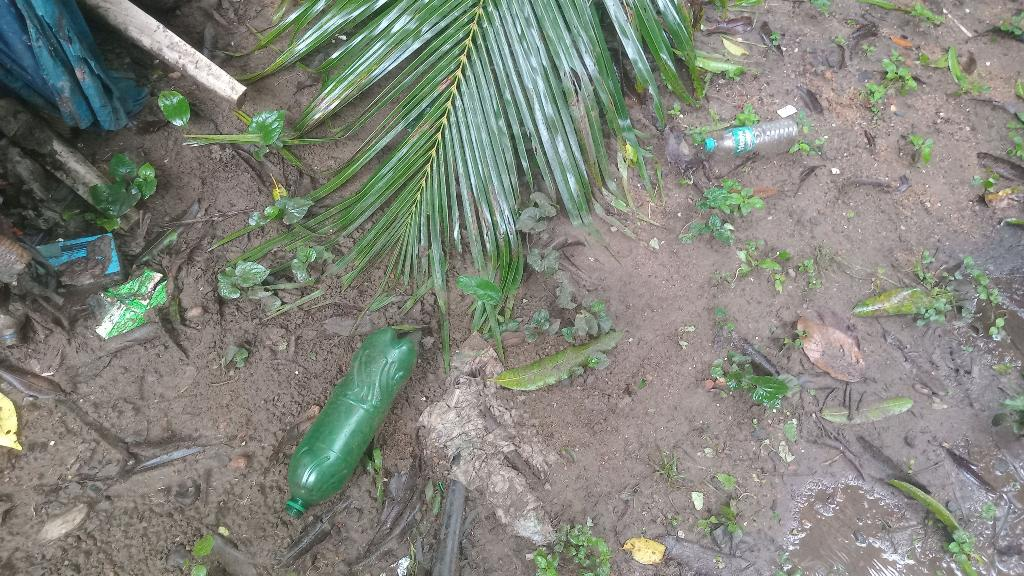garbage: (304, 299, 387, 533), (690, 117, 814, 160)
